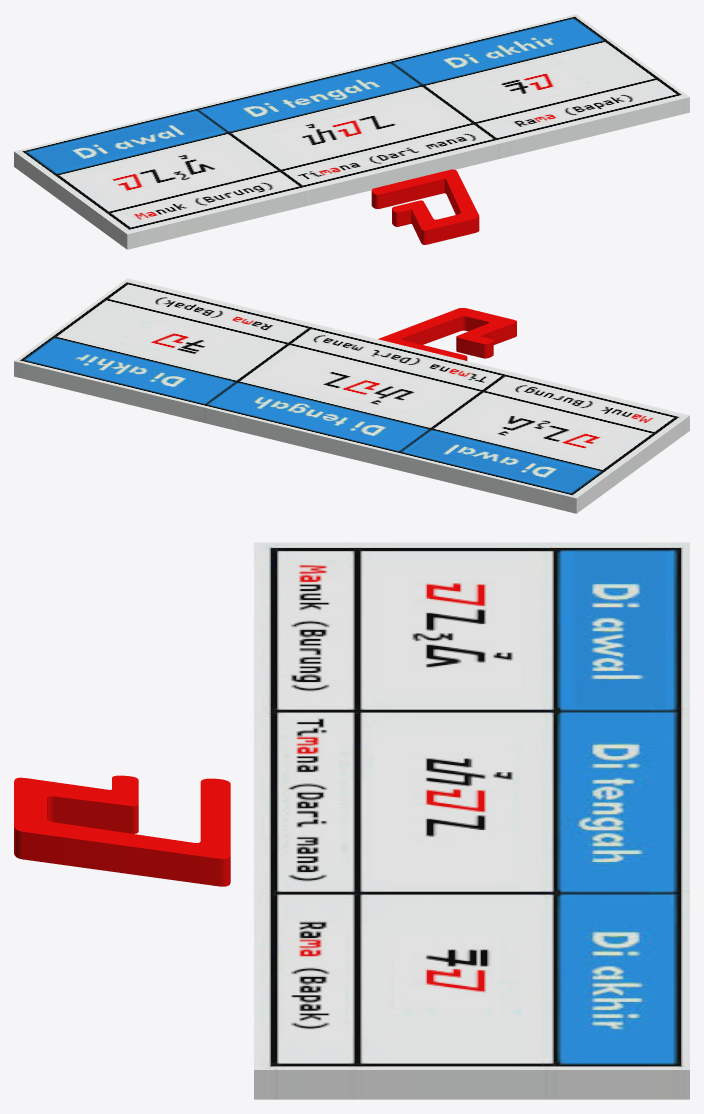
The picture shows the model from 3 angles, top to bottom: view 1: azimuth 30°, elevation 25°; view 2: azimuth 150°, elevation 25°; view 3: azimuth 270°, elevation 25°; orthographic projection. The views are drawn at different scales.
Visible parts, largest first — view 1: contoh-bunyi-huruf-ma-Ngalagena, Text; view 2: contoh-bunyi-huruf-ma-Ngalagena, Text; view 3: contoh-bunyi-huruf-ma-Ngalagena, Text.
Boxes of the visible parts, x1,y1,x2,y2 form: contoh-bunyi-huruf-ma-Ngalagena: (14, 14, 689, 249); Text: (371, 169, 479, 244); contoh-bunyi-huruf-ma-Ngalagena: (14, 278, 689, 513); Text: (378, 308, 516, 360); contoh-bunyi-huruf-ma-Ngalagena: (254, 542, 689, 1099); Text: (14, 775, 230, 886).
Bounding box in the file's own units: 2.86 × 0.11 × 1.55.
2 materials, 1 textured.
